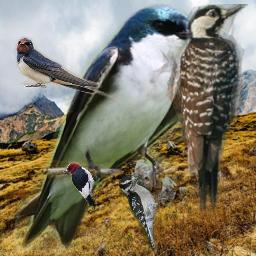Swallow: (13, 3, 203, 251), (15, 36, 124, 101)
Woodpecker: (153, 4, 249, 223), (119, 175, 168, 252), (60, 162, 98, 210)
